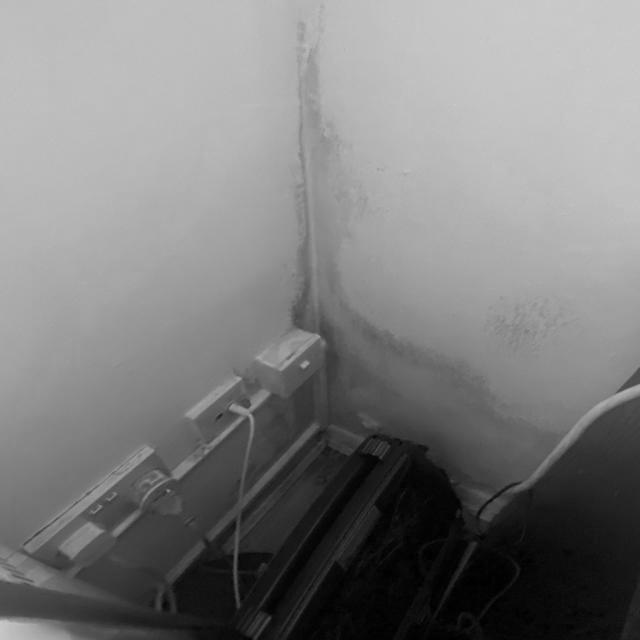stain marks: (300, 320, 559, 480), (282, 10, 369, 317), (460, 266, 623, 358)
